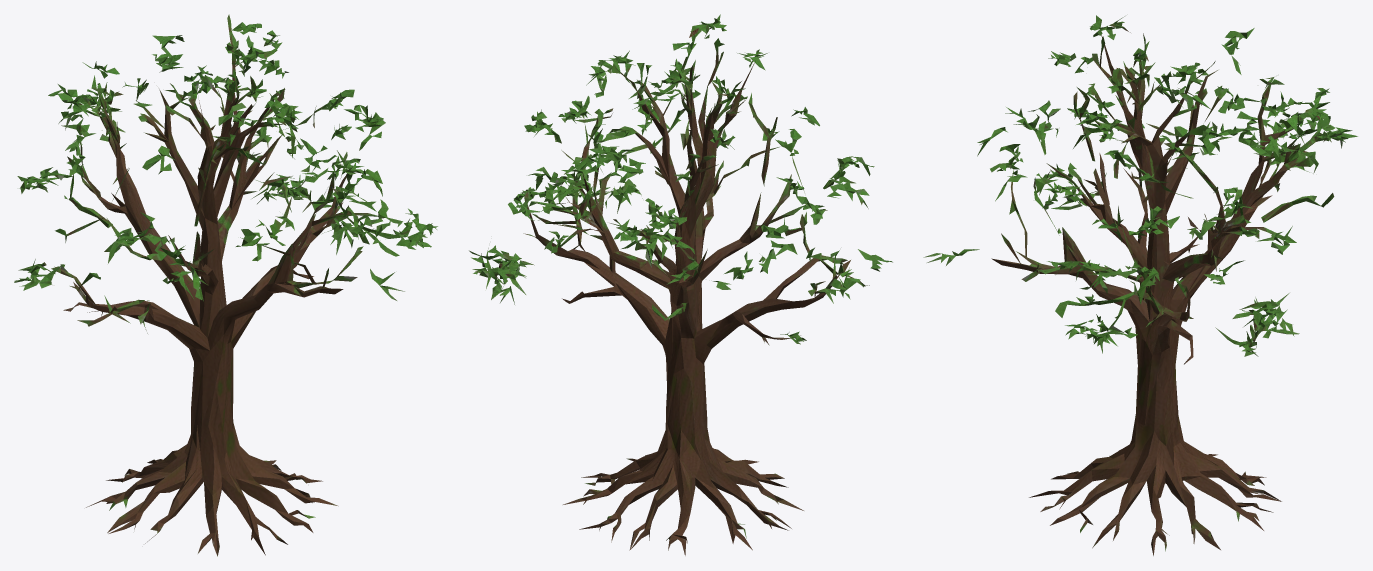
3 views of the same model, side by side, from view 1: azimuth 30°, elevation 25°; view 2: azimuth 150°, elevation 25°; view 3: azimuth 270°, elevation 25° (orthographic). The views are drawn at different scales.
Bounding box in the file's own units: 1.47 × 1.74 × 1.4.
Materials: 1 (1 with a texture image).
